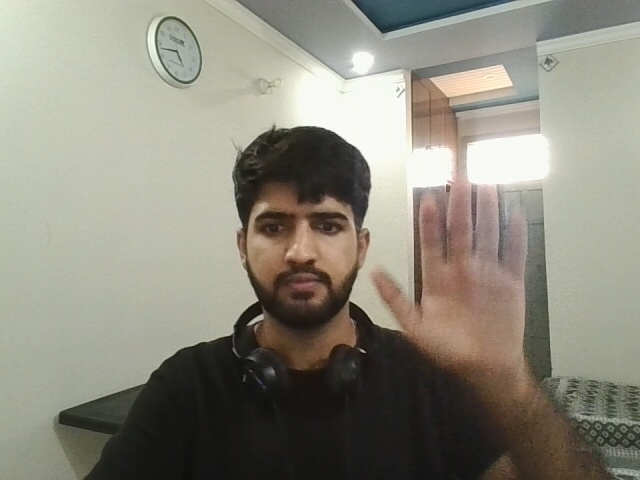Hello: (372, 177, 561, 398)
